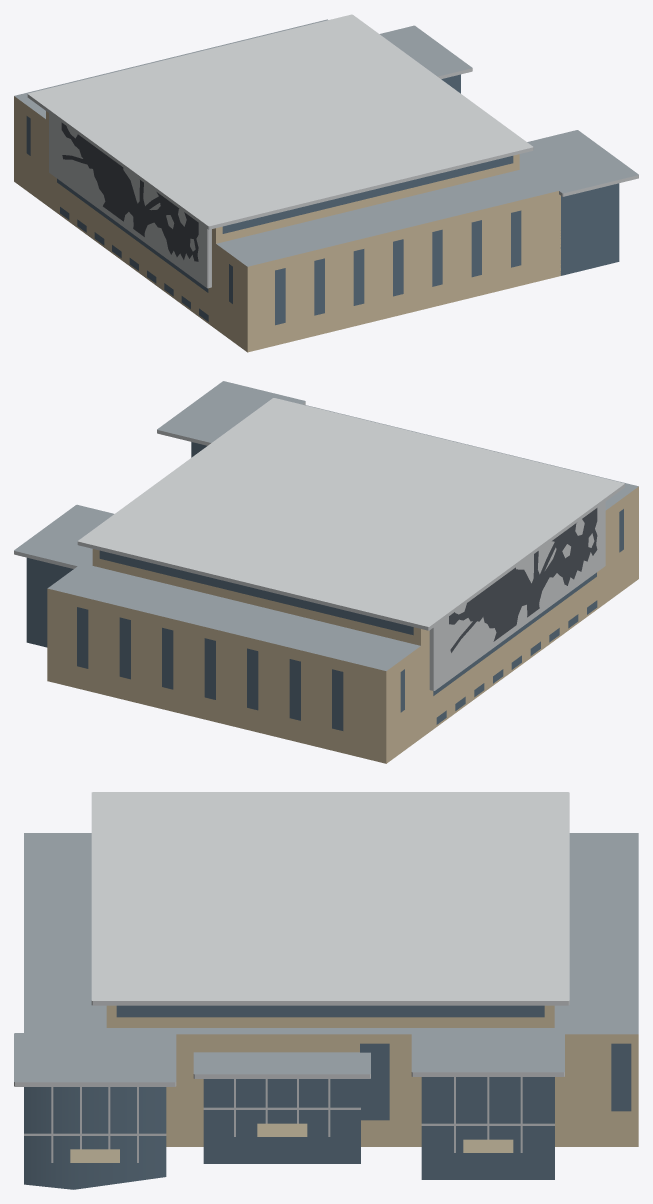
The model's file is ral-convention-center.glb.
3 views of the same model, one above another, from view 1: azimuth 30°, elevation 25°; view 2: azimuth 150°, elevation 25°; view 3: azimuth 270°, elevation 25° (orthographic). The views are drawn at different scales.
Visible parts, largest first — view 1: Raleigh Convention Center; view 2: Raleigh Convention Center; view 3: Raleigh Convention Center.
Part boxes in pixels (<box>): Raleigh Convention Center: <box>14,14,638,352</box>; Raleigh Convention Center: <box>14,381,638,763</box>; Raleigh Convention Center: <box>14,792,638,1189</box>.
Size of the model in its own units: 122 by 32.2 by 126.
